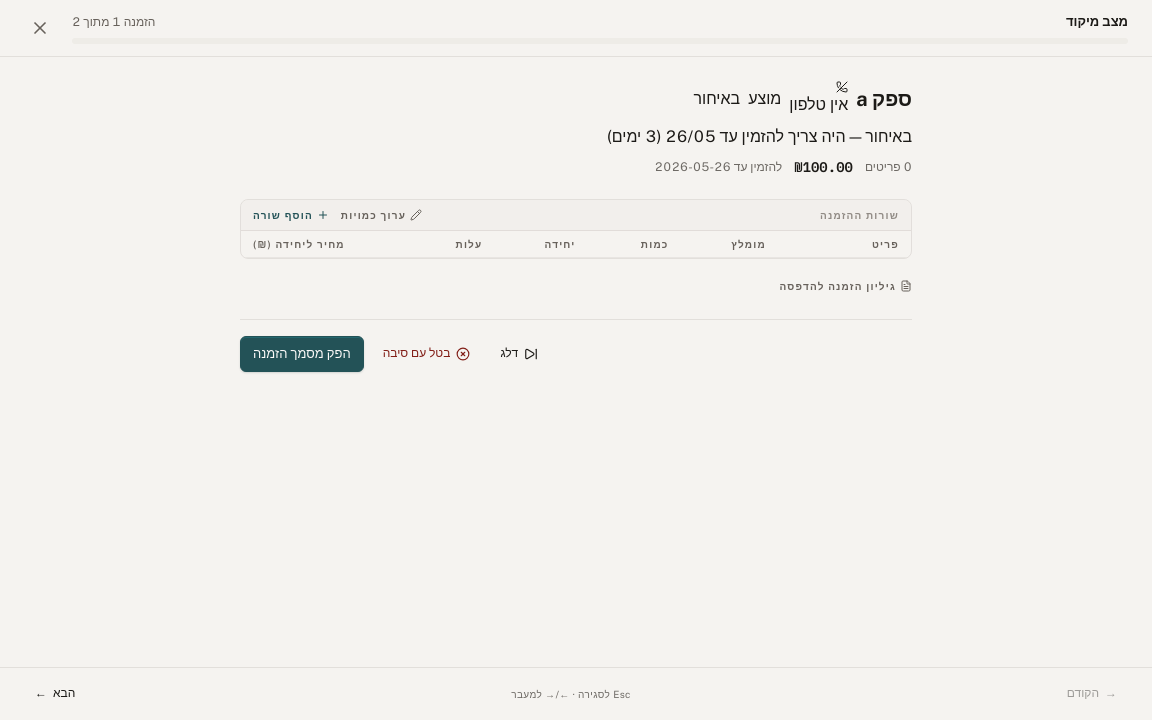
Scenario: FocusMode › M4 paging past the end shows the completion screen
Click the button with test id "focus-next" at (55, 694), box [24,680,86,708]
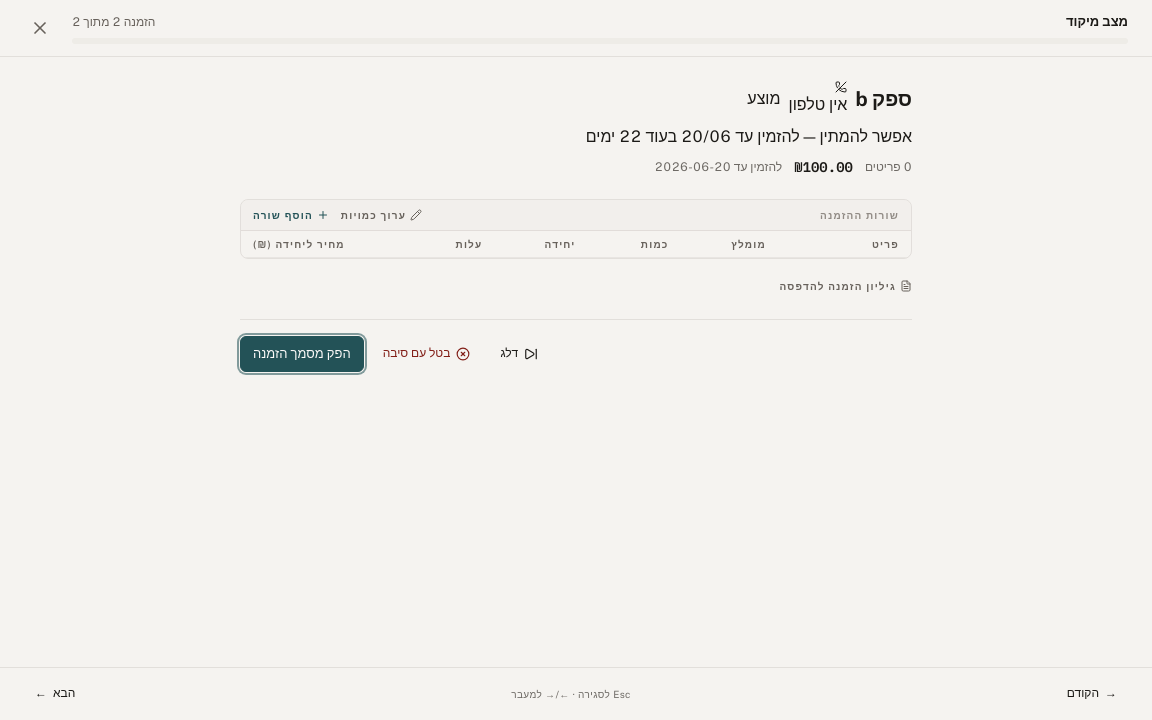
Click the button with test id "focus-next" at (55, 694), box [24,680,86,708]
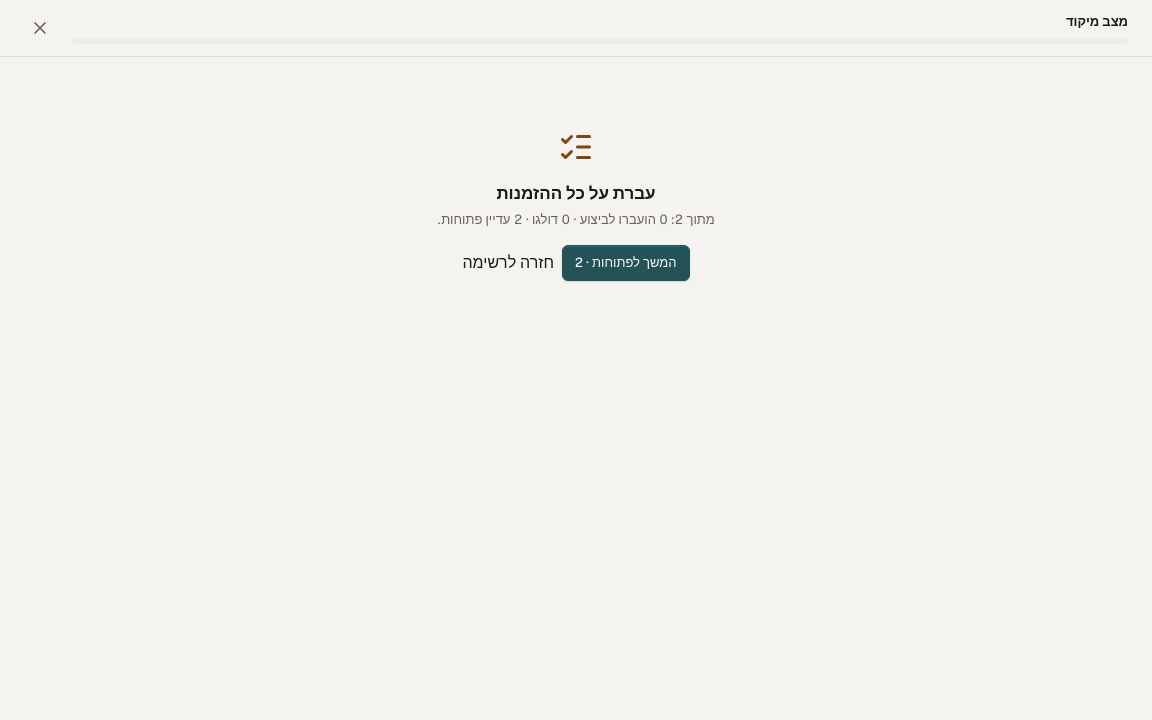
Check: the element with test id "focus-done" is shown, box [437,129,715,281]
